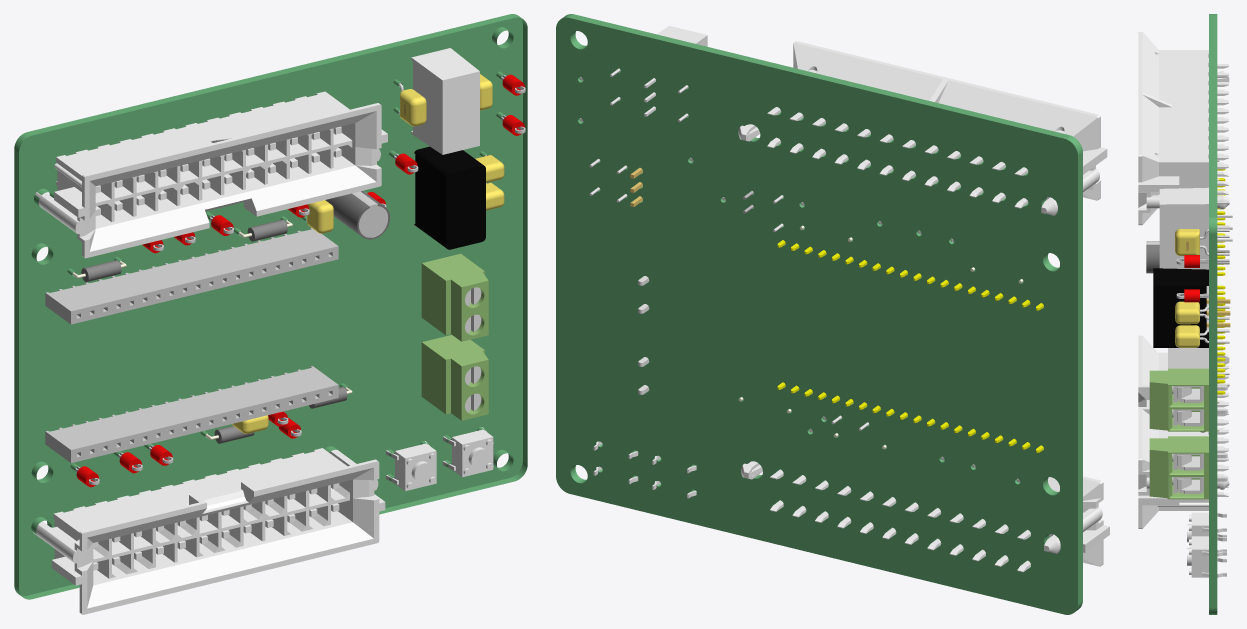
File: motherboard.glb
3 views of the same model, side by side, from view 1: azimuth 30°, elevation 25°; view 2: azimuth 150°, elevation 25°; view 3: azimuth 270°, elevation 25° (orthographic). The views are drawn at different scales.
Parts seen in each view (by area): view 1: n4, n1, n14, n10, n16, n9, n5, n12, n2, n13, n6; view 2: n4, n1, n18; view 3: n1, n10, n4, n16, n6, n9, n18, n14, n19, n5, n13, n11 (+1 smaller).
Part boxes in pixels (x1,y1,x2,y2): n4: [14, 14, 527, 599]; n1: [32, 48, 493, 614]; n14: [45, 228, 338, 462]; n10: [421, 253, 488, 420]; n16: [414, 146, 485, 249]; n9: [232, 74, 504, 433]; n5: [76, 74, 524, 487]; n12: [75, 75, 525, 485]; n2: [81, 219, 347, 443]; n13: [325, 191, 389, 239]; n6: [465, 287, 481, 412]; n4: [556, 14, 1082, 614]; n1: [593, 26, 1109, 572]; n18: [777, 240, 1043, 452]; n1: [1138, 32, 1232, 577]; n10: [1149, 368, 1208, 499]; n4: [1209, 14, 1217, 614]; n16: [1153, 268, 1208, 347]; n6: [1172, 385, 1227, 493]; n9: [1175, 229, 1199, 347]; n18: [1217, 169, 1225, 394]; n14: [1168, 286, 1208, 368]; n19: [1200, 201, 1229, 386]; n5: [1184, 255, 1199, 302]; n13: [1146, 244, 1159, 273]; n11: [1206, 299, 1230, 327].
Size of the model in its own units: 97.54 by 84.96 by 18.35.
